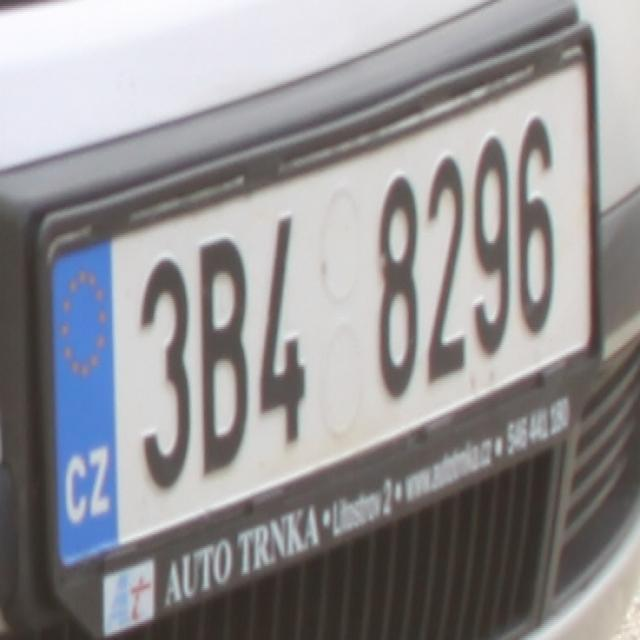2: (429, 149, 468, 379)
3: (139, 255, 186, 490)
4: (258, 213, 309, 447)
6: (516, 115, 554, 334)
8: (378, 169, 420, 397)
9: (474, 133, 511, 361)
B: (194, 233, 248, 474)
